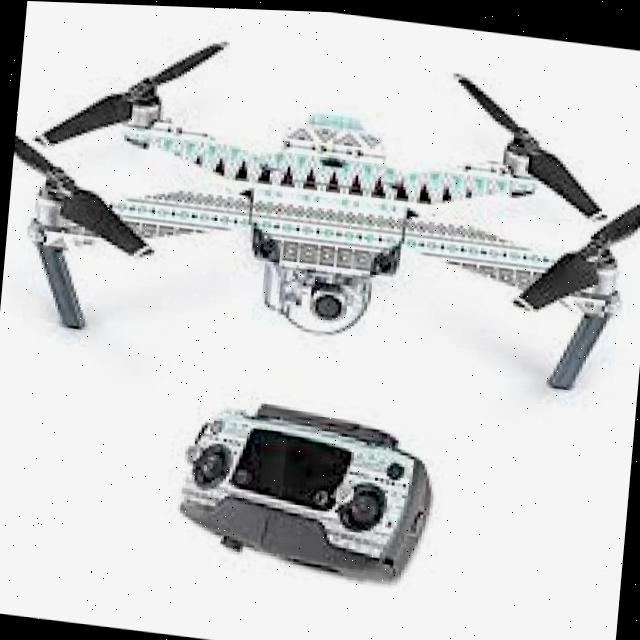drone: (0, 6, 640, 415)
